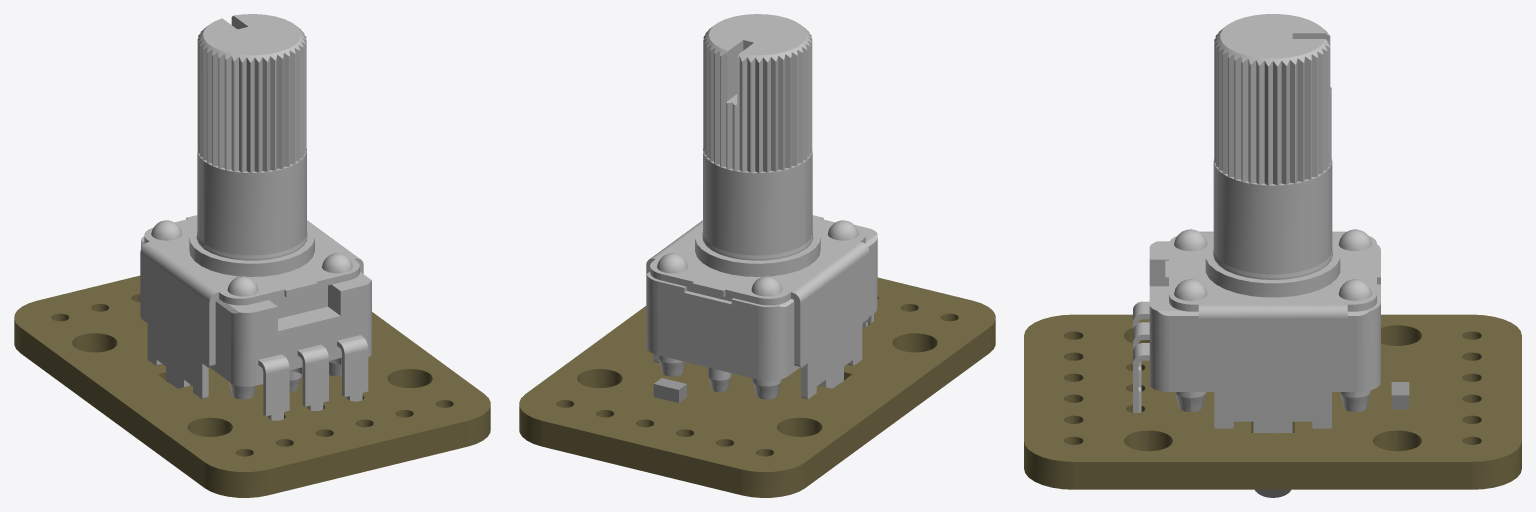
The model's file is ada-6387.glb.
3 renders of one model, left to right at view 1: azimuth 30°, elevation 25°; view 2: azimuth 150°, elevation 25°; view 3: azimuth 270°, elevation 25°, orthographic. The views are drawn at different scales.
Visible parts, largest first — view 1: 0.5_0.5_0.5_0.85, 0.16666666666666666_0.16666666666666666_0.08333333333333333_; view 2: 0.5_0.5_0.5_0.85, 0.16666666666666666_0.16666666666666666_0.08333333333333333_, 0.3333333333333333_0.3333333333333333_0.3333333333333333_0; view 3: 0.5_0.5_0.5_0.85, 0.16666666666666666_0.16666666666666666_0.08333333333333333_.
Part boxes in pixels (left/top/right/bottom): 0.5_0.5_0.5_0.85: left=140, top=14, right=371, bottom=420; 0.16666666666666666_0.16666666666666666_0.08333333333333333_: left=14, top=275, right=490, bottom=497; 0.5_0.5_0.5_0.85: left=646, top=14, right=877, bottom=399; 0.16666666666666666_0.16666666666666666_0.08333333333333333_: left=519, top=277, right=995, bottom=497; 0.3333333333333333_0.3333333333333333_0.3333333333333333_0: left=653, top=378, right=686, bottom=402; 0.5_0.5_0.5_0.85: left=1133, top=14, right=1380, bottom=497; 0.16666666666666666_0.16666666666666666_0.08333333333333333_: left=1024, top=314, right=1521, bottom=489.
Size of the model in its own units: 1.78 by 2.37 by 2.54.
